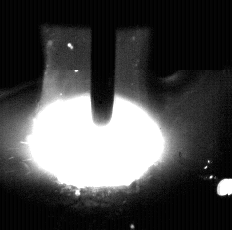arame: (91, 0, 116, 126)
poca: (25, 0, 167, 230)
